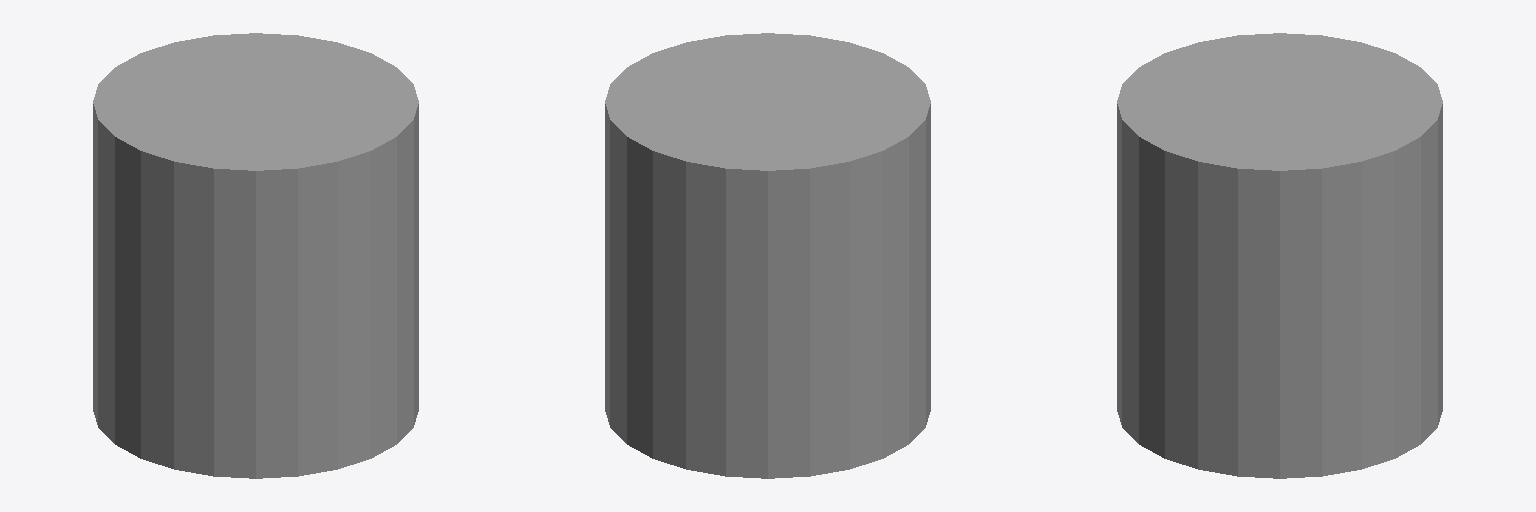
The picture shows the model from 3 angles: view 1: azimuth 30°, elevation 25°; view 2: azimuth 150°, elevation 25°; view 3: azimuth 270°, elevation 25°; orthographic projection.
Visible parts, largest first — view 1: Non_subD; view 2: Non_subD; view 3: Non_subD.
Part boxes in pixels (x1,y1,x2,y2): Non_subD: (93,33,418,478); Non_subD: (605,33,930,478); Non_subD: (1117,33,1442,478).
Bounding box in the file's own units: 4.22 × 4.39 × 4.22.